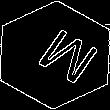M_SW: (18, 21, 92, 89)
